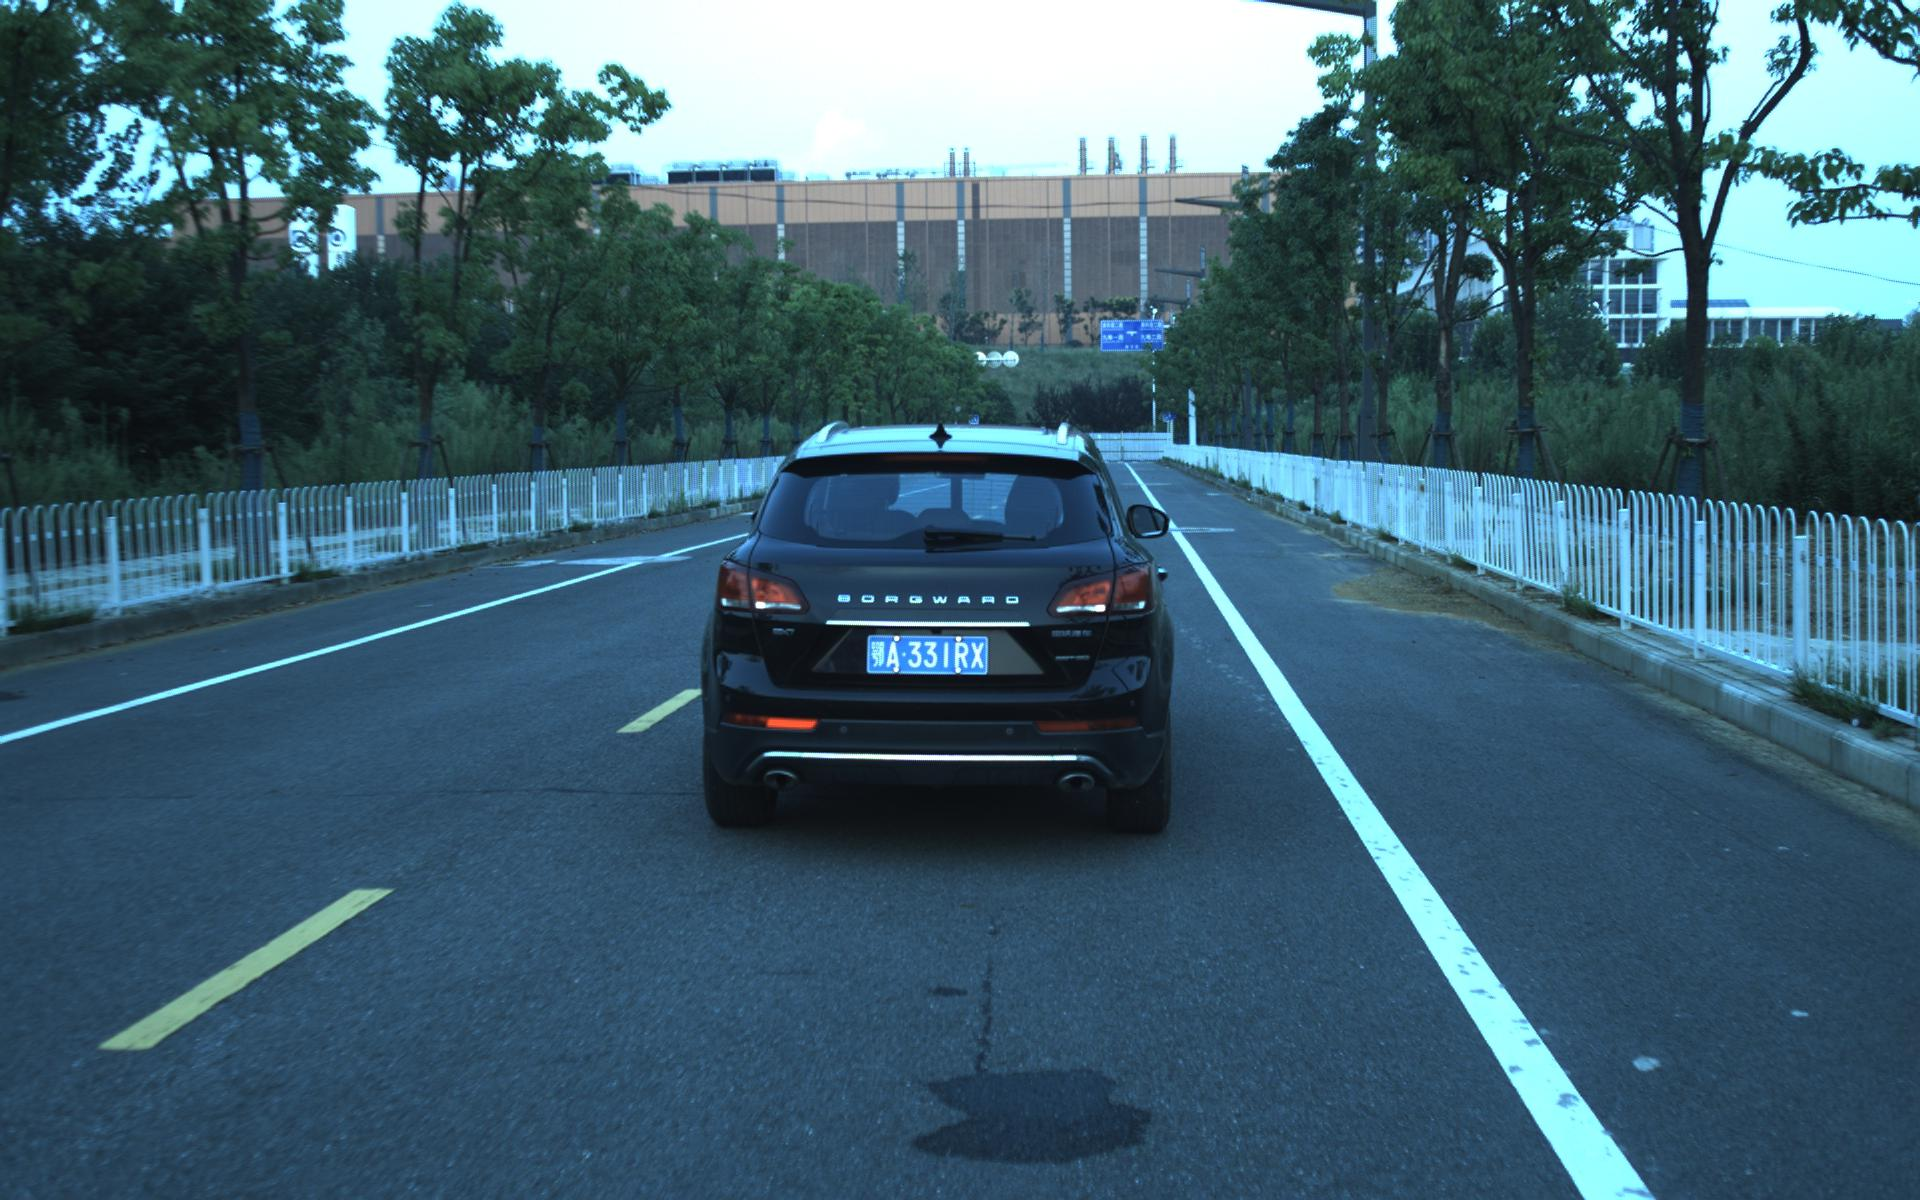Car: (686, 395, 1180, 850)
